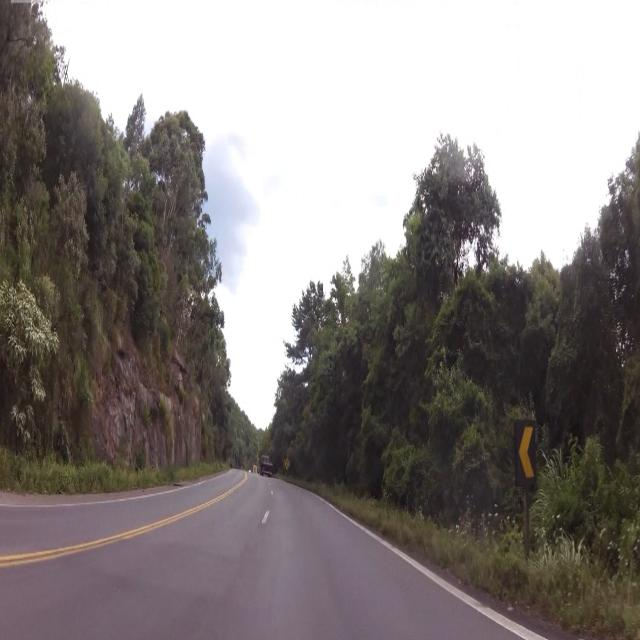Del: (512, 416, 538, 492)
